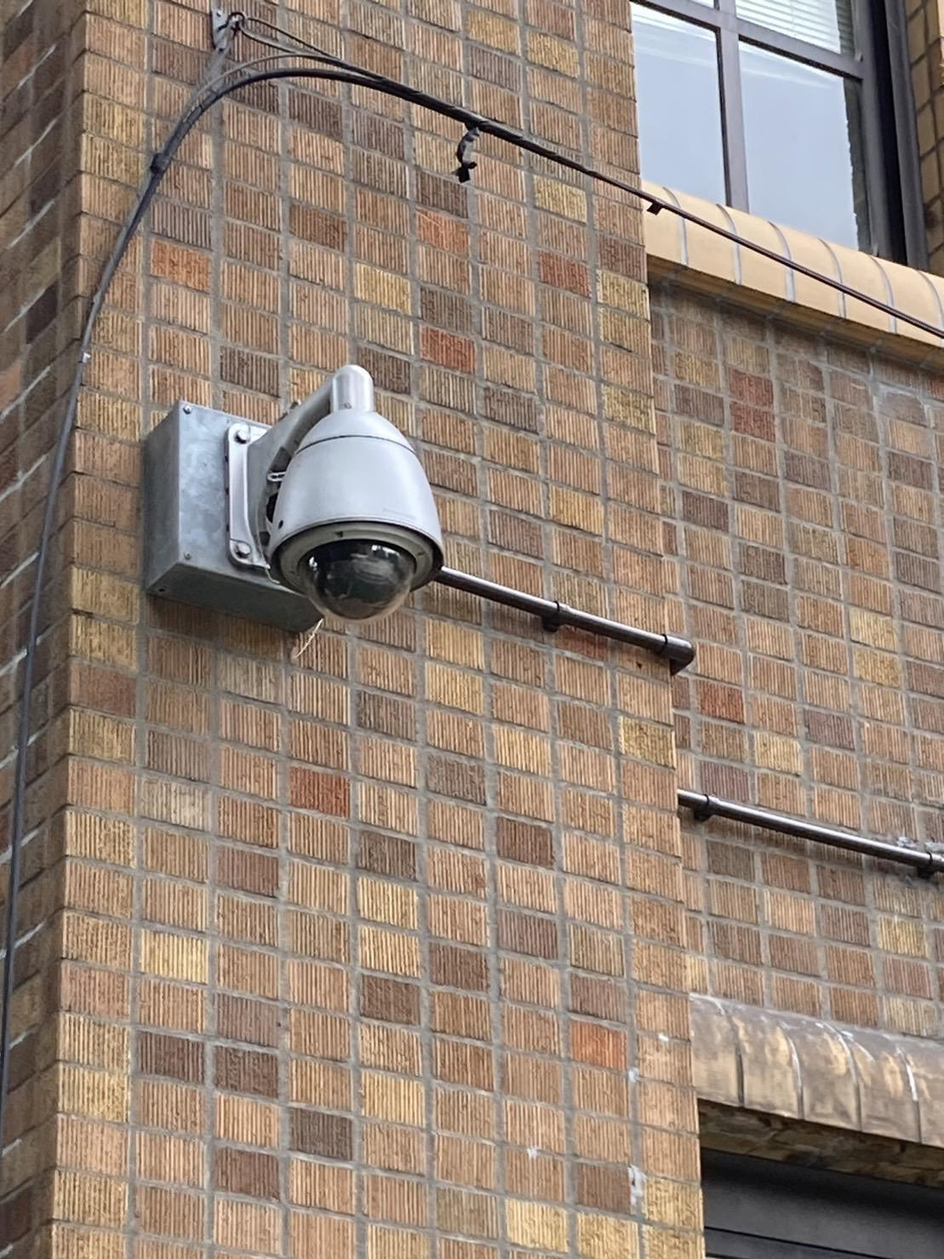maru: (238, 394, 458, 638)
